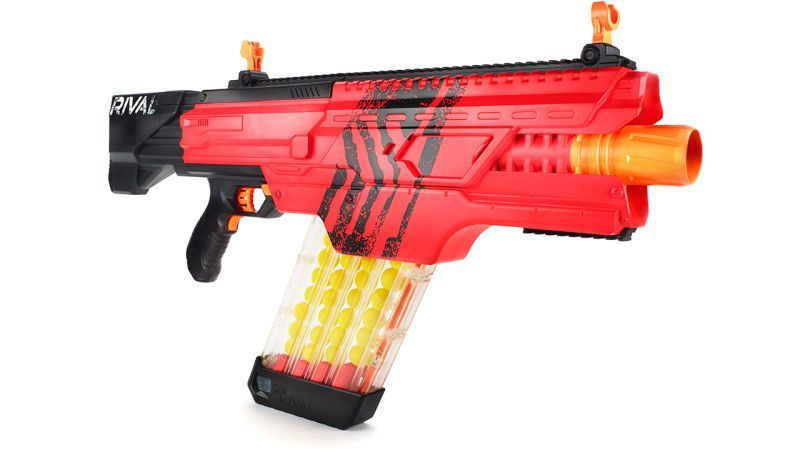Arma Falsa: (102, 2, 702, 430)
